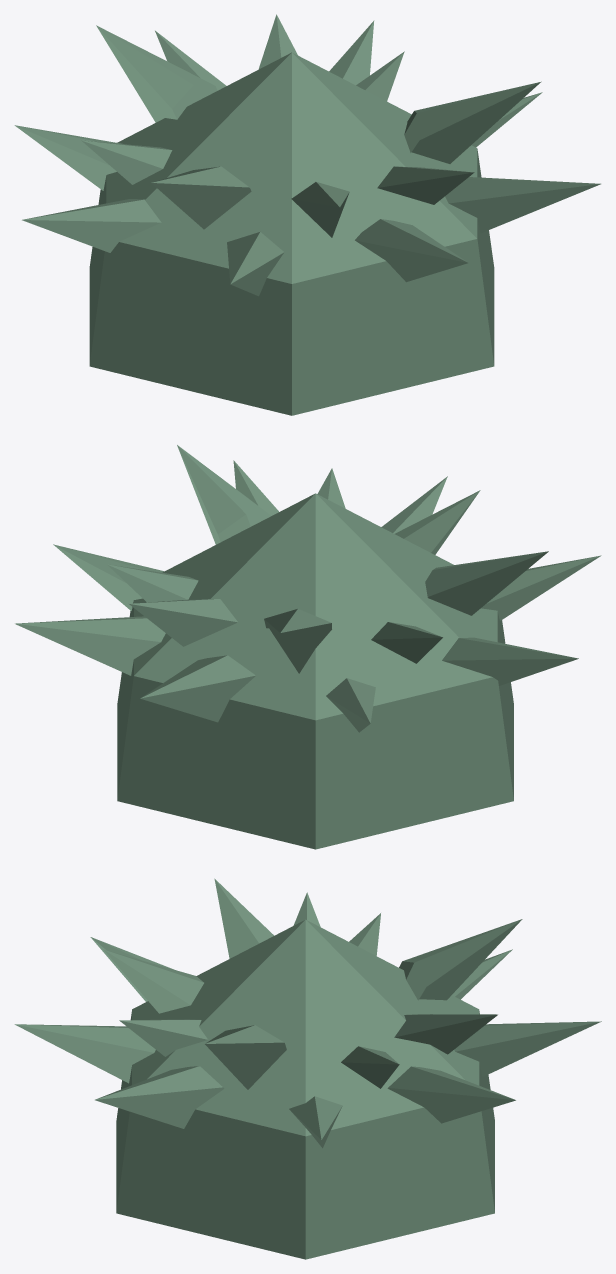
Rendered from city_agave.glb.
3 views of the same model, one above another, from view 1: azimuth 30°, elevation 25°; view 2: azimuth 150°, elevation 25°; view 3: azimuth 270°, elevation 25° (orthographic). The views are drawn at different scales.
Visible parts, largest first — view 1: CityAgave_Far, CityAgave_Leaves; view 2: CityAgave_Far, CityAgave_Leaves; view 3: CityAgave_Far, CityAgave_Leaves.
Part boxes in pixels (x1,y1,x2,y2): CityAgave_Far: [89, 52, 494, 415]; CityAgave_Leaves: [14, 14, 600, 296]; CityAgave_Far: [117, 493, 513, 849]; CityAgave_Leaves: [15, 445, 601, 732]; CityAgave_Far: [116, 919, 494, 1259]; CityAgave_Leaves: [14, 878, 601, 1148].
Size of the model in its own units: 1.57 by 0.848 by 1.61.
